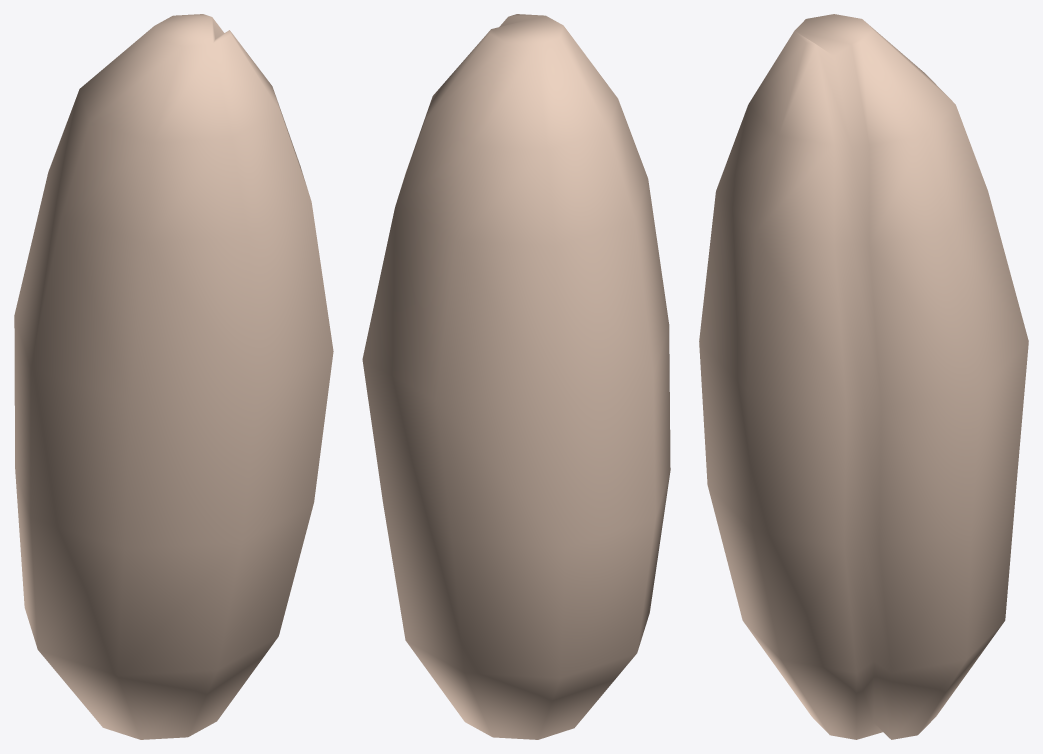
Rendered from RiceGrain.fbx.
The picture shows the model from 3 angles, left to right: view 1: azimuth 30°, elevation 25°; view 2: azimuth 150°, elevation 25°; view 3: azimuth 270°, elevation 25°; orthographic projection. The views are drawn at different scales.
Visible parts, largest first — view 1: Cylinder; view 2: Cylinder; view 3: Cylinder.
Part boxes in pixels (x1,y1,x2,y2): Cylinder: [14, 14, 333, 739]; Cylinder: [362, 14, 670, 739]; Cylinder: [699, 14, 1028, 739].
Size of the model in its own units: 8.27 by 19.52 by 8.41.
